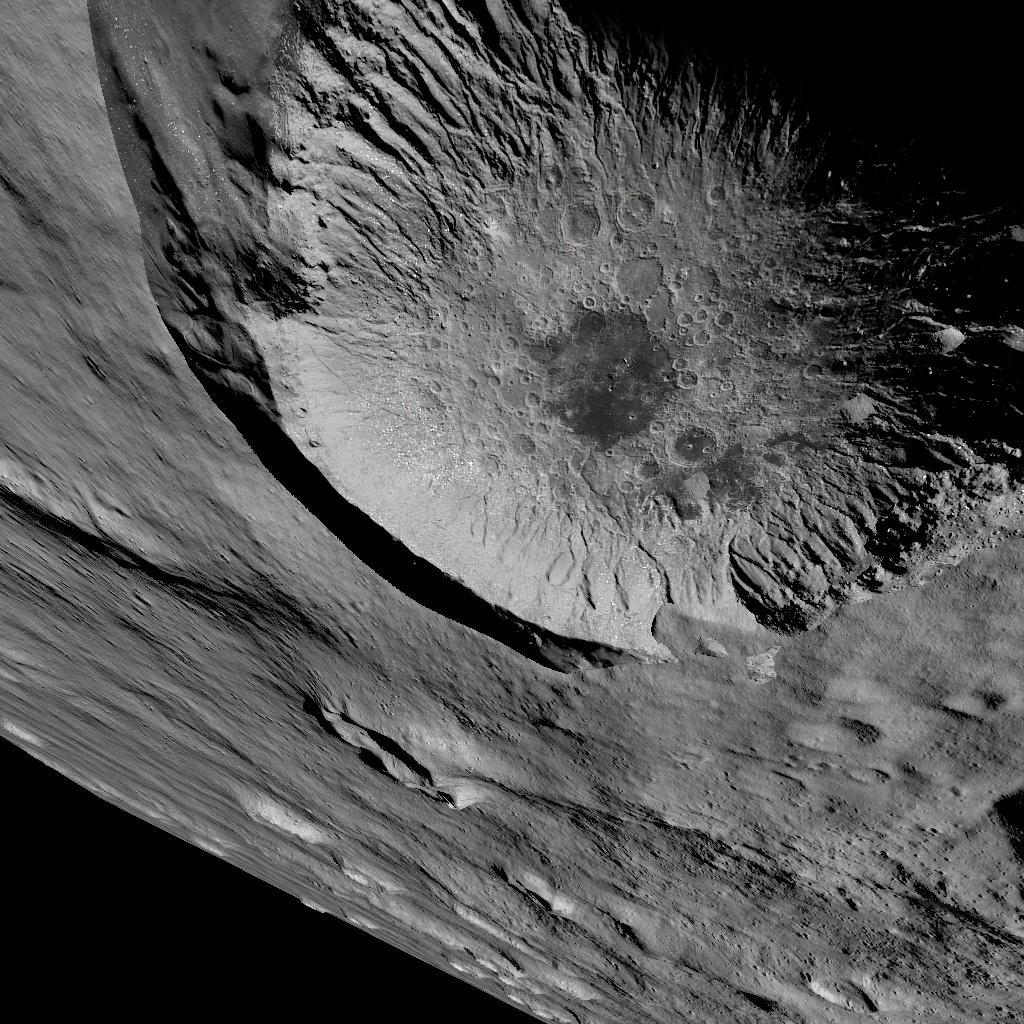Crater: (57, 0, 1024, 669), (284, 684, 460, 823)
Plan surface: (482, 692, 954, 978)
